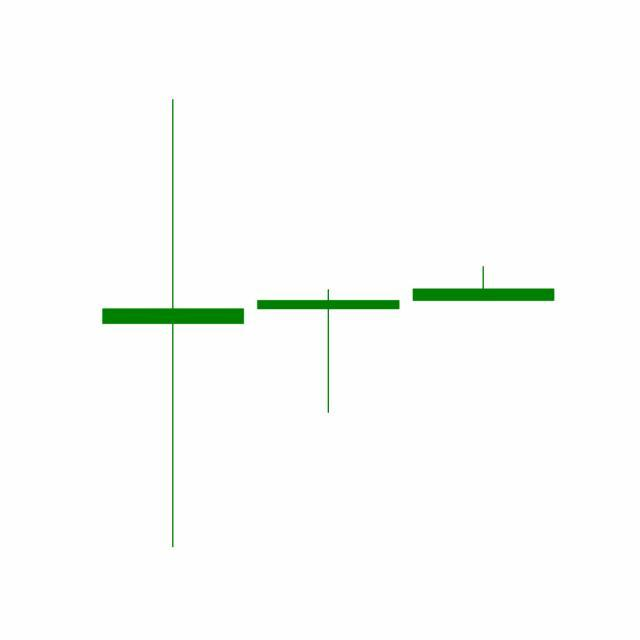Dragonfly Doji: (250, 288, 407, 415)
